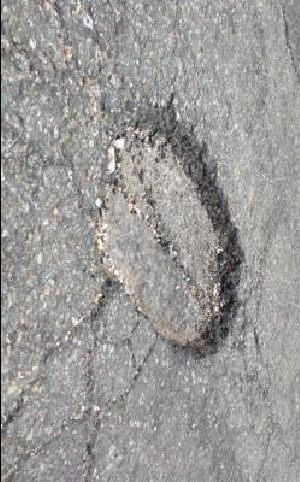pothole: (92, 98, 248, 362)
